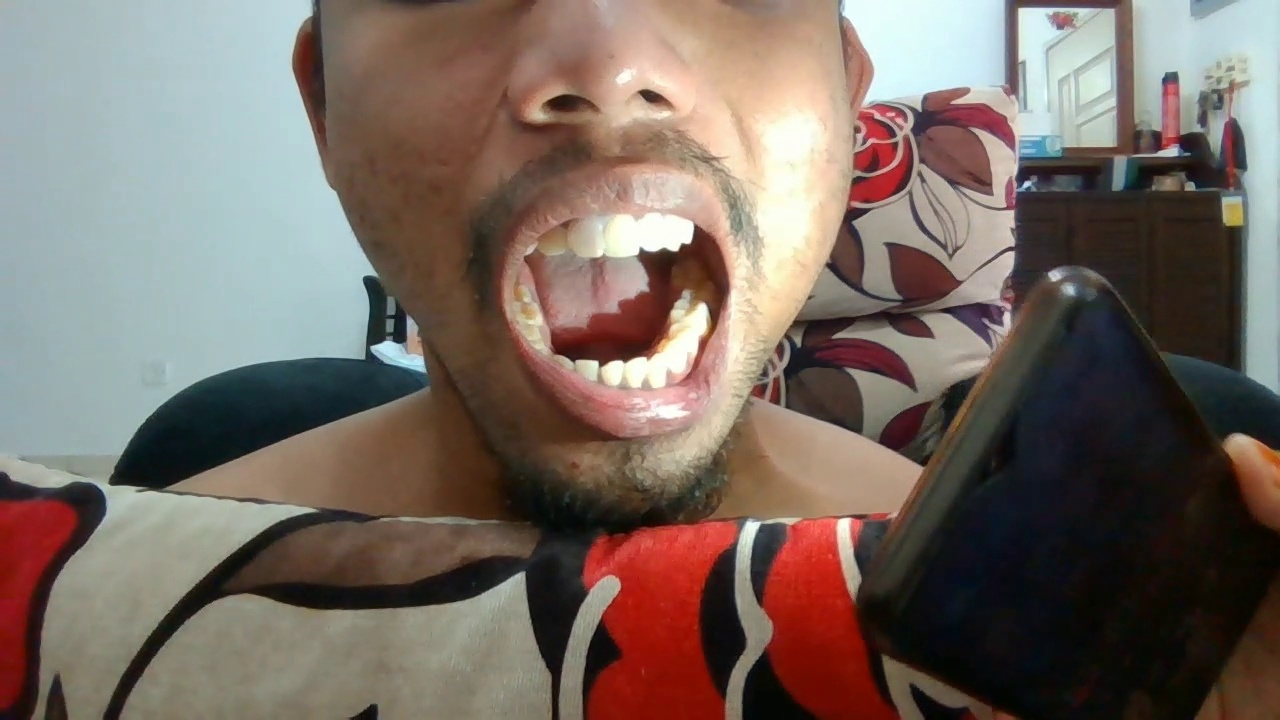1st Molar: (670, 299, 712, 337), (513, 302, 545, 325)
1st Premolar: (658, 341, 688, 373), (682, 217, 695, 245)
2nd Molar: (680, 280, 718, 306), (511, 285, 534, 303)
2nd Premolar: (667, 323, 699, 357)
3rd Molar: (670, 259, 708, 285)
Canine: (649, 352, 668, 389), (667, 215, 683, 250)
Central Incisor: (567, 216, 606, 258), (607, 213, 640, 258), (599, 357, 625, 387), (574, 358, 599, 380)
Lateral Incisor: (638, 213, 666, 252), (538, 224, 569, 256), (625, 355, 648, 388)
